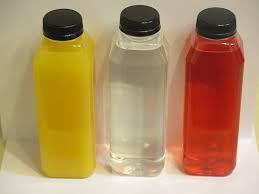Plastic: (107, 3, 169, 177)
